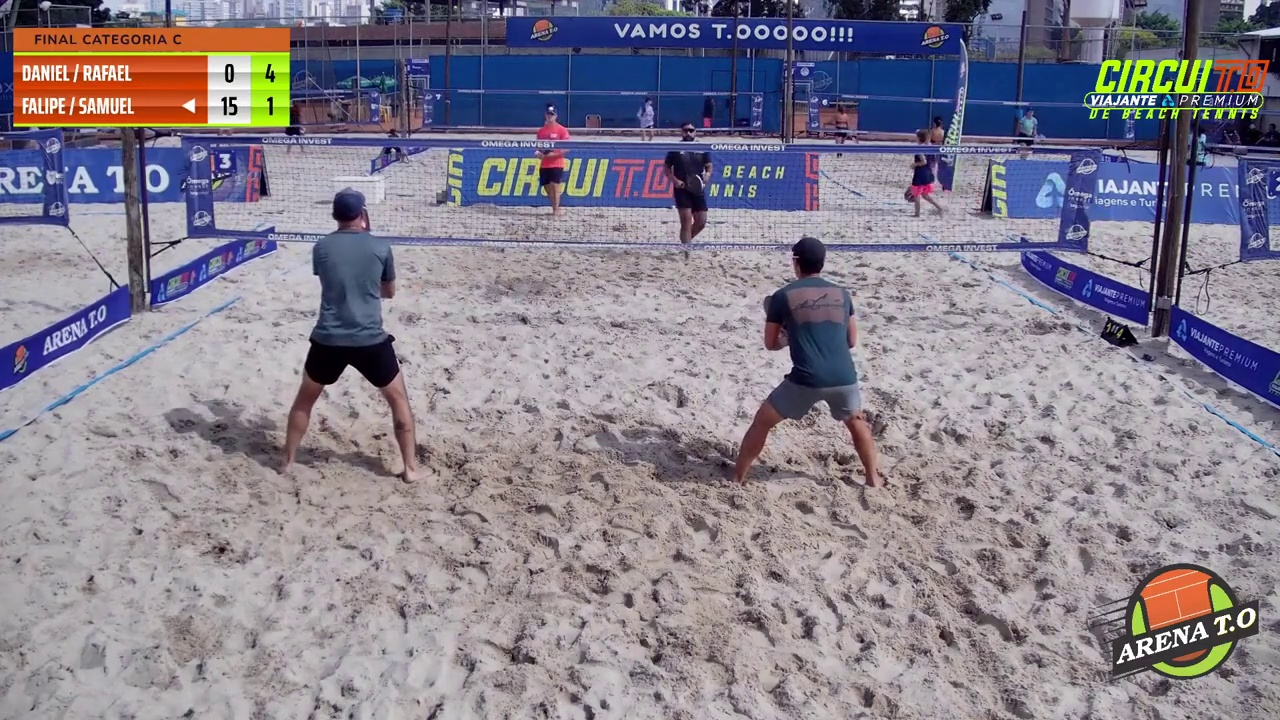court_line: (646, 0, 794, 428)
